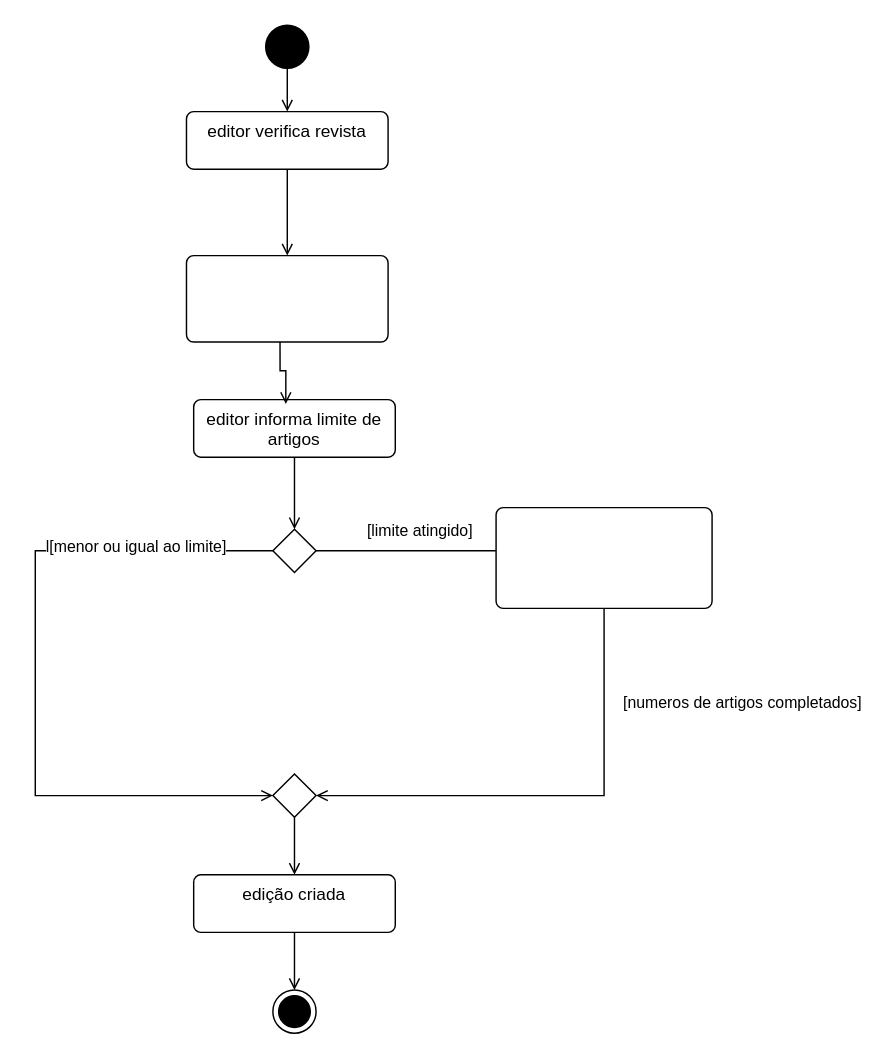
The diagram is 886 pixels wide and 1058 high, and some of its shapes have lost their labels. Here are the shapes that lost their labels. From the top down, the box of each, then its label:
(185, 254, 388, 342): Sistema verifica artigos que estão em condições de ser publicados
(495, 506, 712, 608): sistema verifica quais são aqueles que foram enviados há mais tempo
